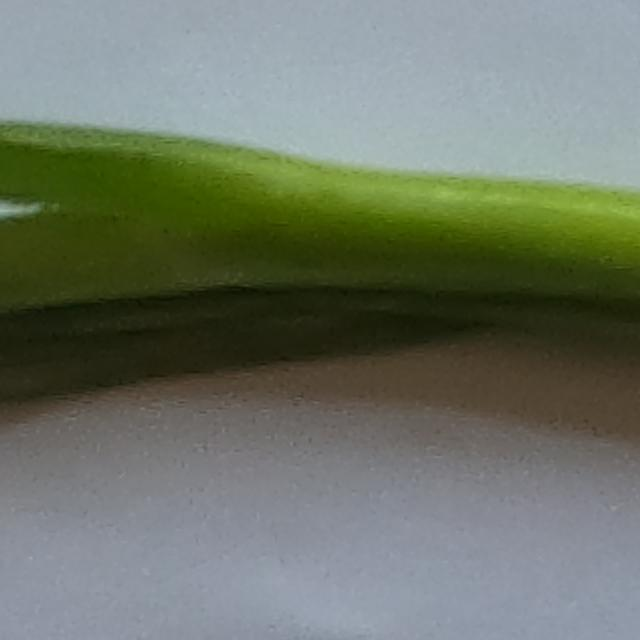green_onion: (0, 124, 640, 418)
